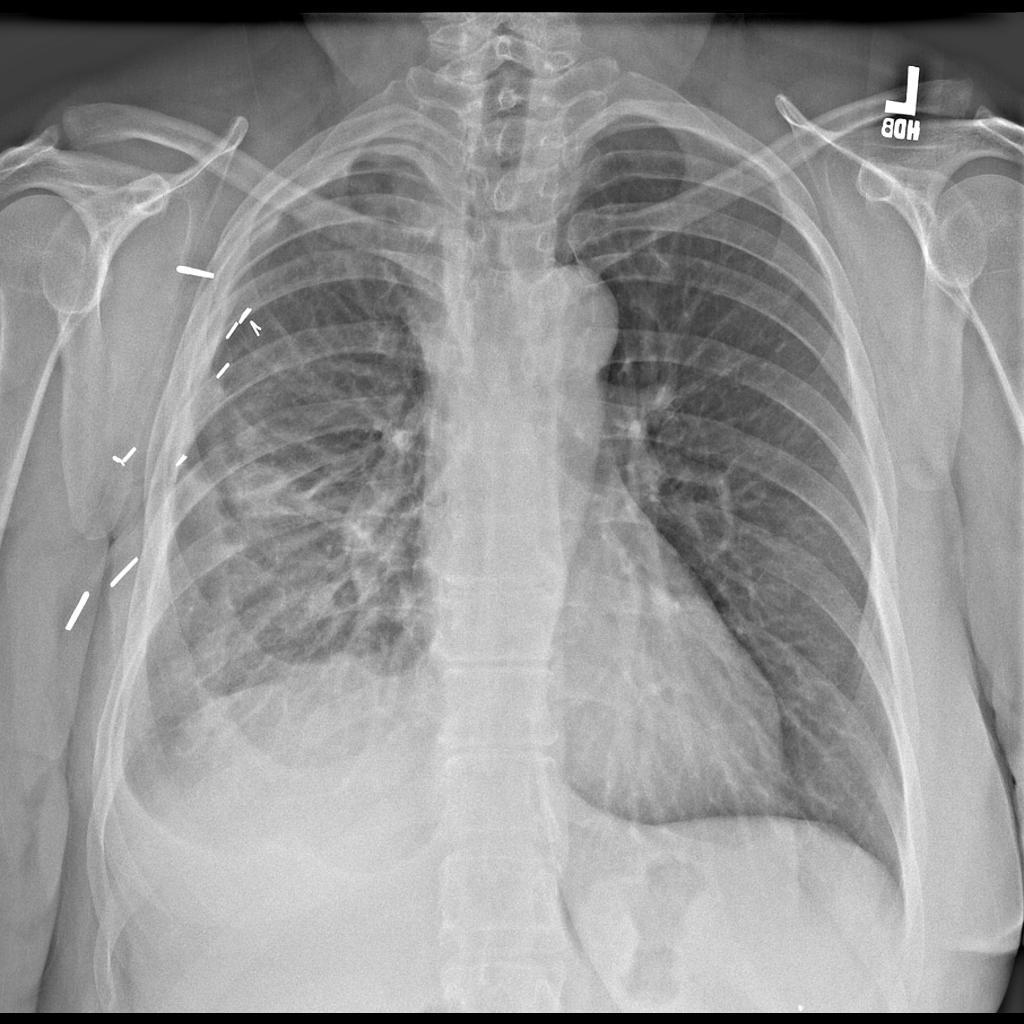Nodule: (239, 474, 295, 521)
